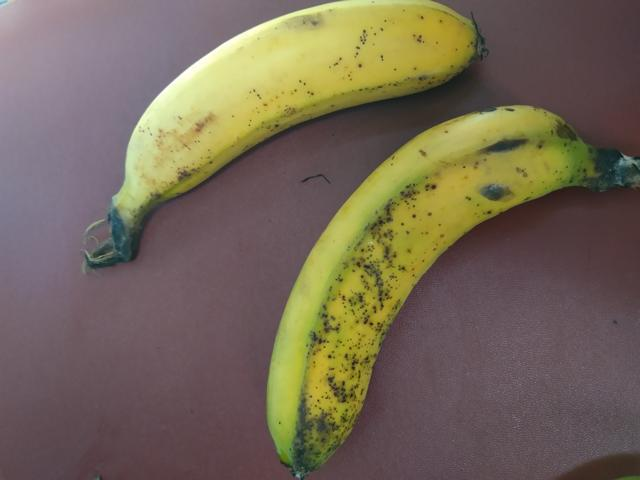ripe: (265, 127, 599, 479), (110, 0, 471, 186)
